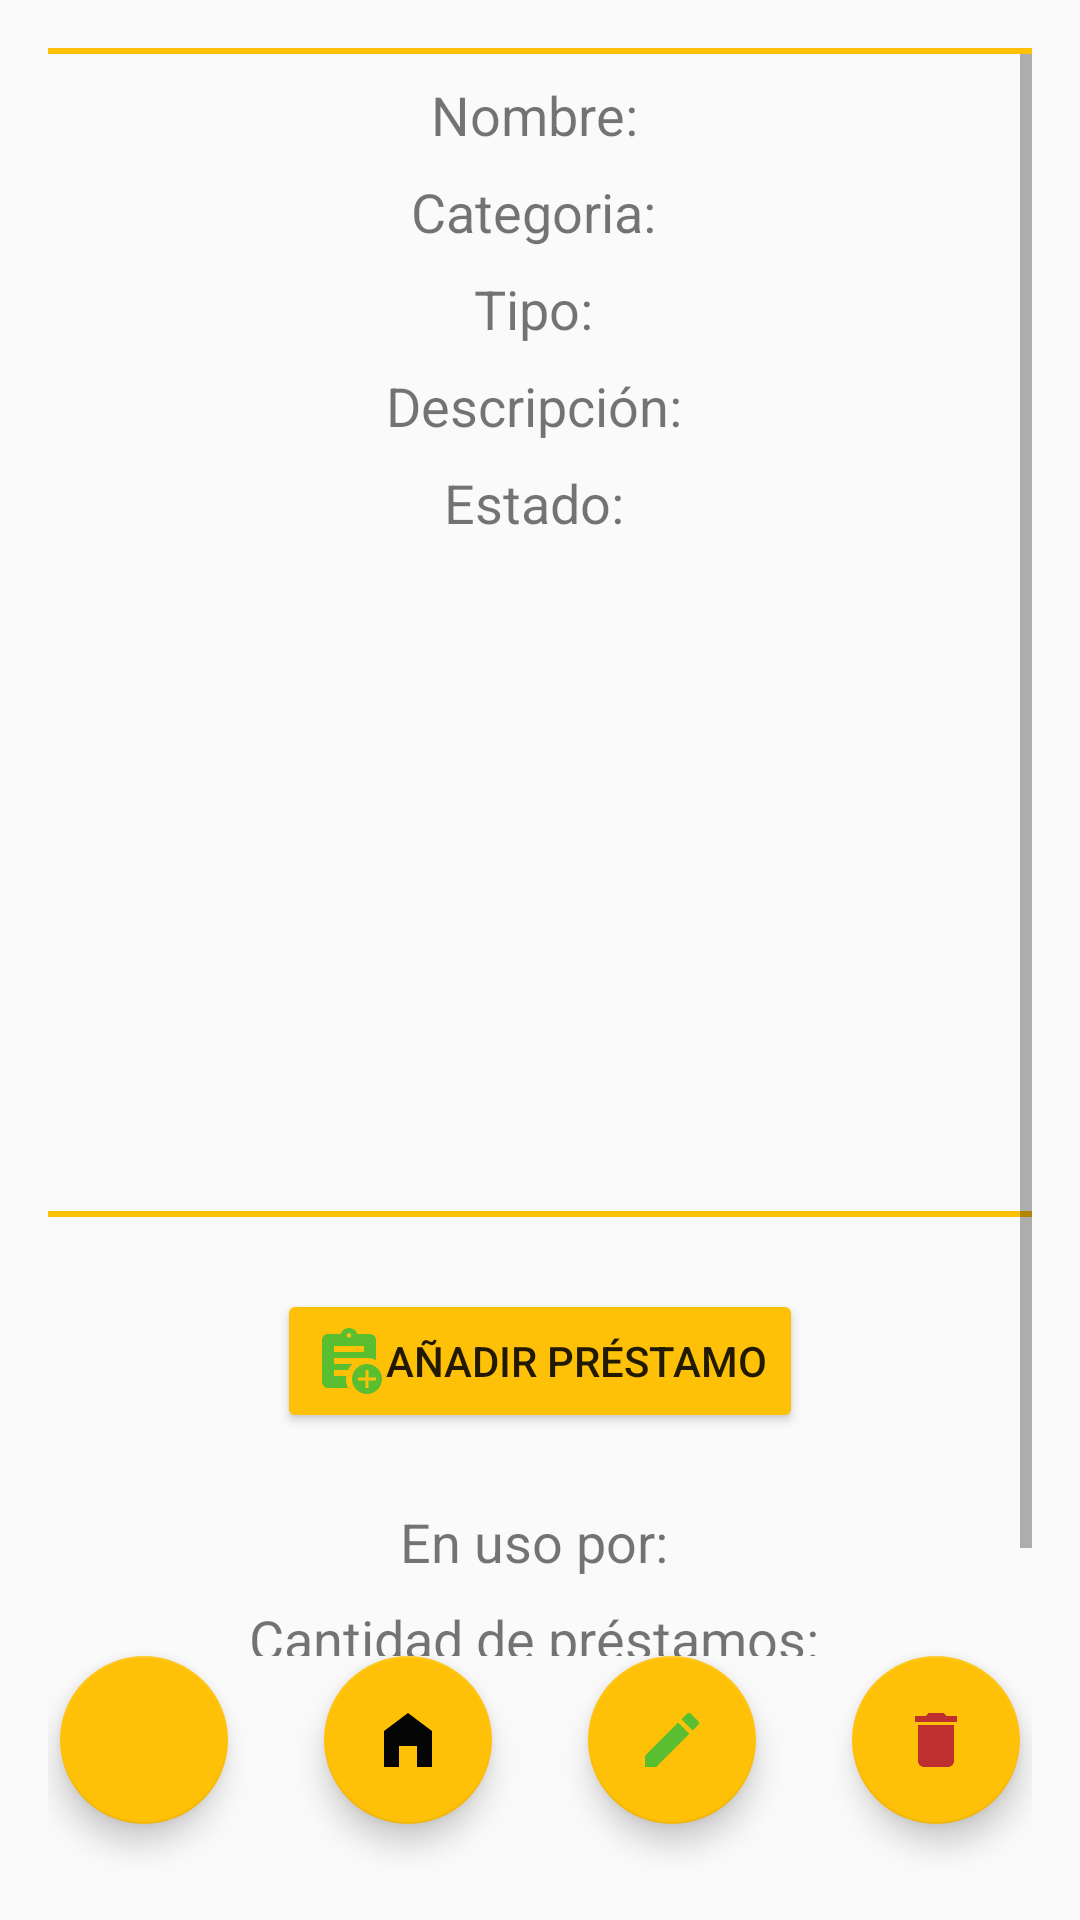

Named icons in this screenshot (1080*1920) and their bounding boxes, (x1, y1, x2, y2):
delete: (852, 1656, 1020, 1824)
edit: (588, 1656, 756, 1824)
home: (324, 1656, 492, 1824)
